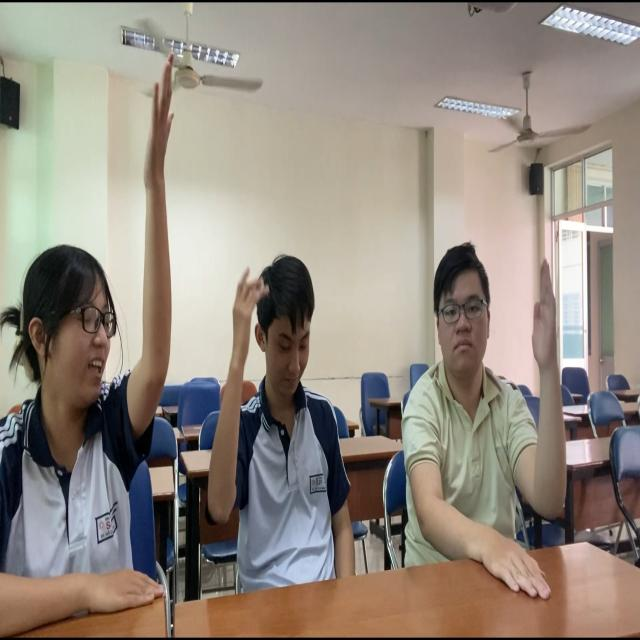raise_hand: (1, 46, 194, 630), (402, 223, 570, 595)
